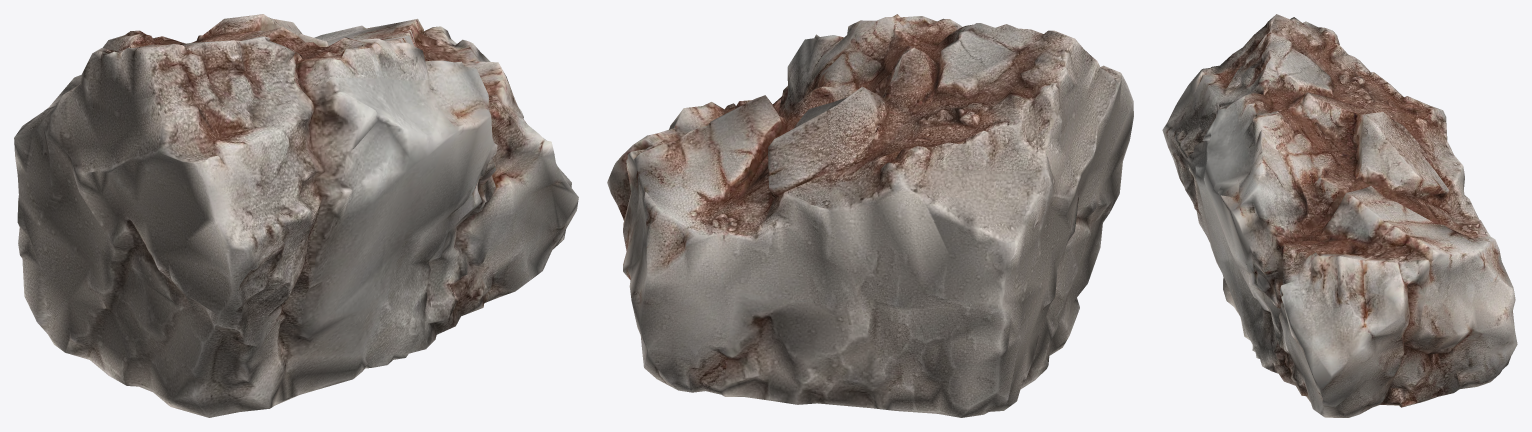
The model's file is rock-pluto-ice.glb.
The picture shows the model from 3 angles, left to right: view 1: azimuth 30°, elevation 25°; view 2: azimuth 150°, elevation 25°; view 3: azimuth 270°, elevation 25°; orthographic projection. The views are drawn at different scales.
Parts seen in each view (by area): view 1: lod0; view 2: lod0; view 3: lod0.
Part boxes in pixels (left/top/right/bottom): lod0: left=14, top=14, right=578, bottom=417; lod0: left=607, top=14, right=1133, bottom=417; lod0: left=1162, top=14, right=1517, bottom=417.
Size of what is drawn, in the model's own units: 0.9996 by 0.689 by 0.8571.
Materials: 1 (1 with a texture image).
